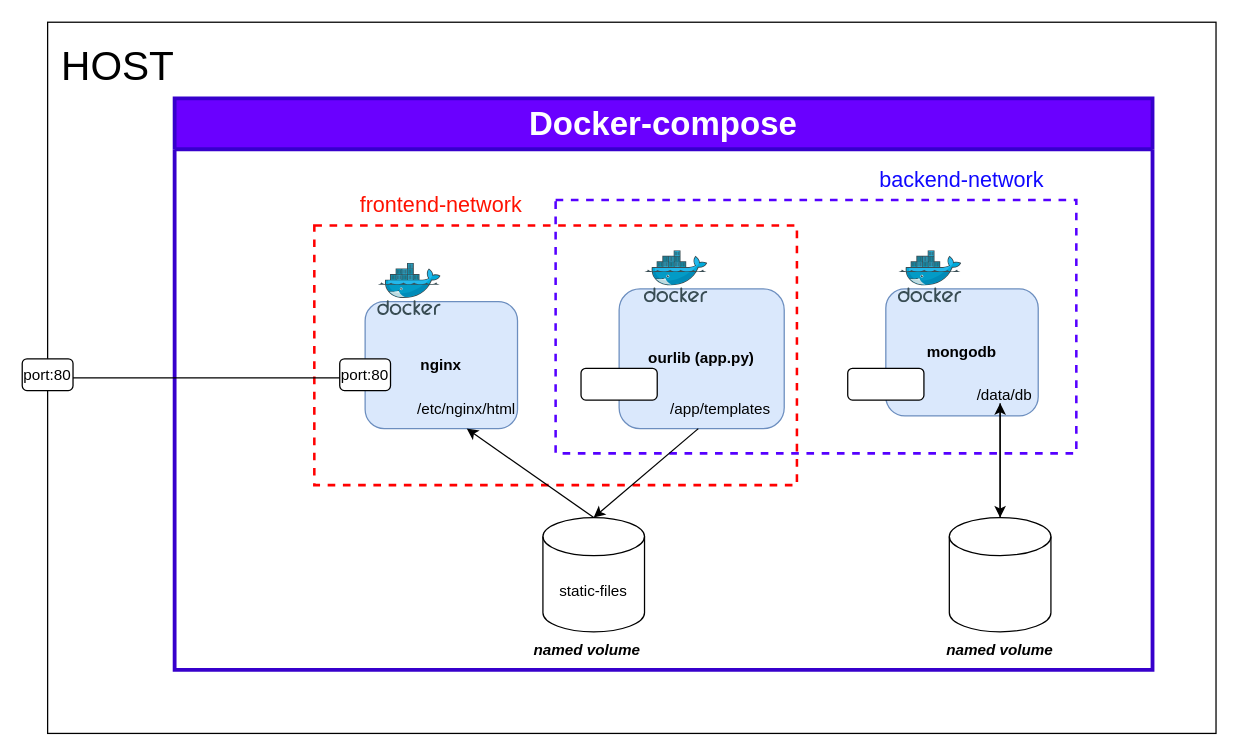
Some shapes in this 1238 by 756 pixel diagram are drawn without their labels. The centre of each missing label's shape, as x and y in pixels:
mongo-data: [999,574]
port:27017: [885,383]
port:7070: [618,383]
